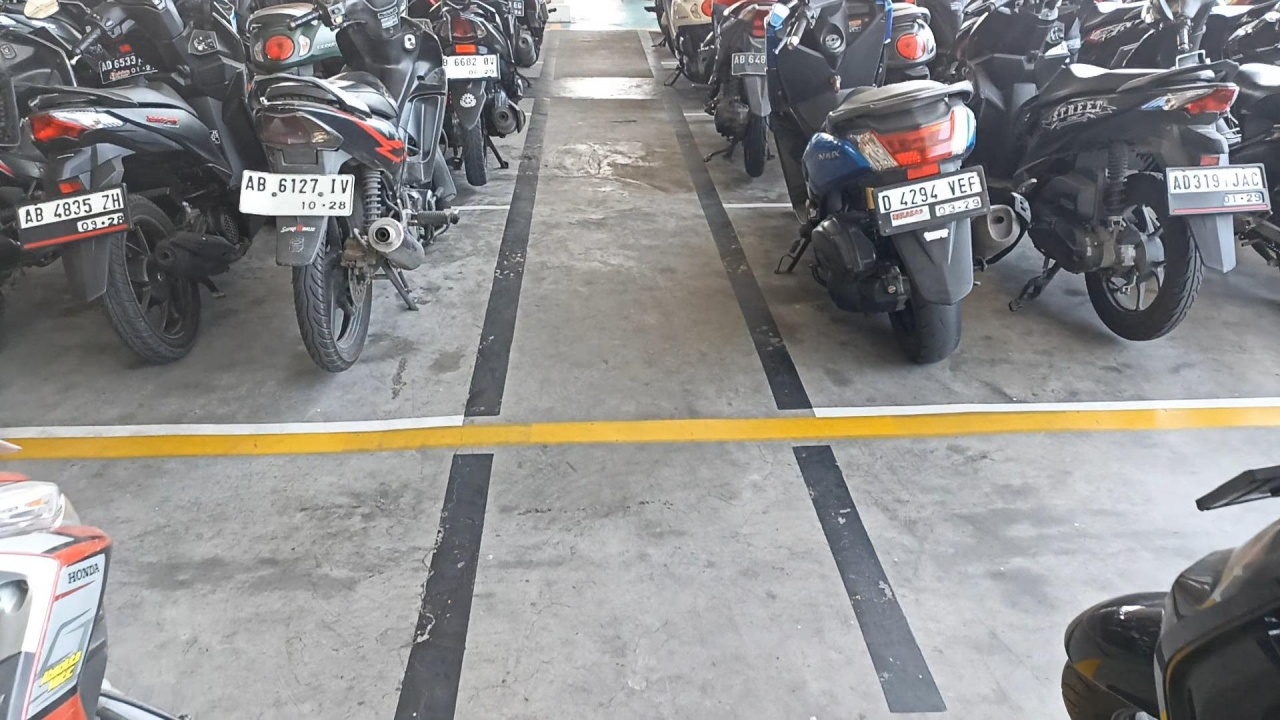plate: (875, 167, 990, 235), (16, 186, 130, 249), (239, 169, 354, 216), (1167, 165, 1270, 214)
